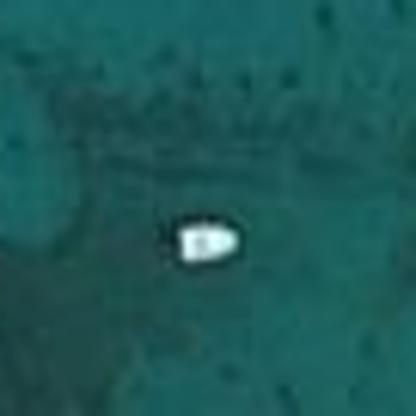ship: (157, 210, 259, 272)
